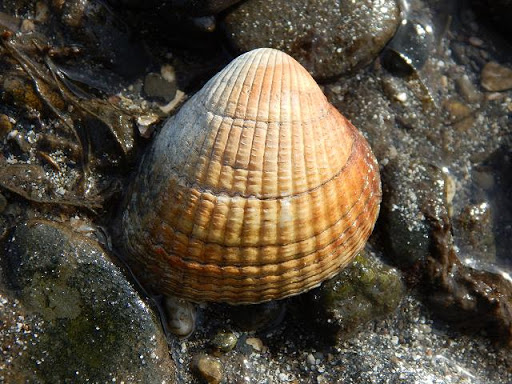cockle: (117, 45, 386, 307)
